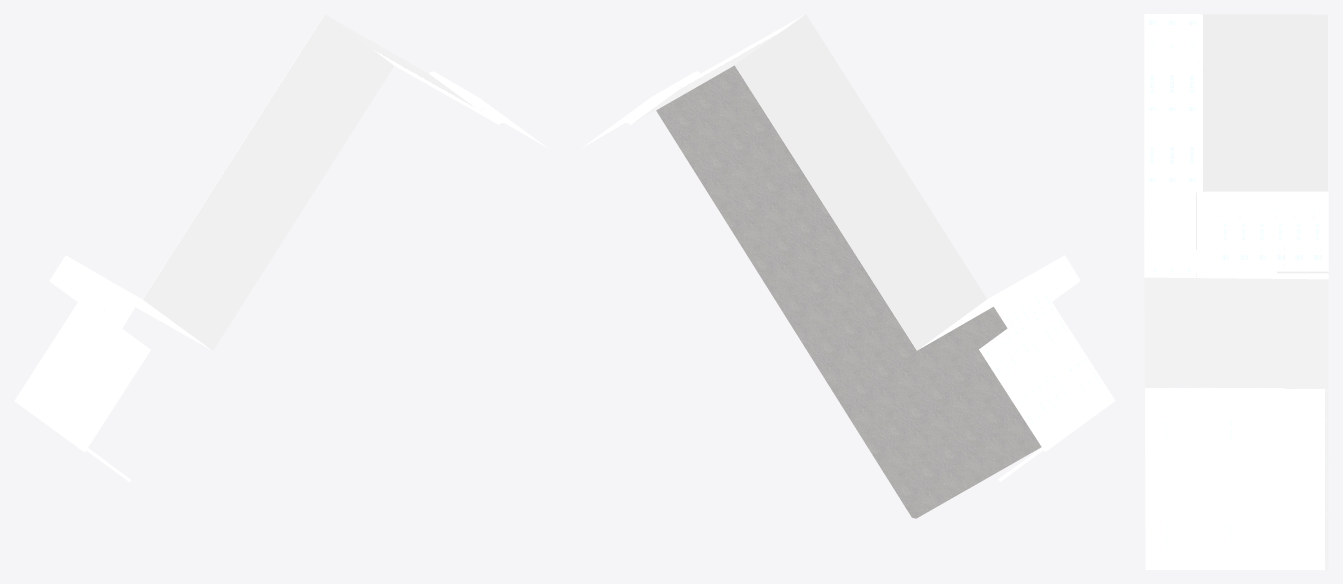
3 renders of one model, left to right at view 1: azimuth 30°, elevation 25°; view 2: azimuth 150°, elevation 25°; view 3: azimuth 270°, elevation 25°, orthographic. The views are drawn at different scales.
Visible parts, largest first — view 1: BuildingMaster_1980193706994462679300000000_0; view 2: BuildingMaster_1980193706994462679300000000_1, BuildingMaster_1980193706994462679300000000_0; view 3: BuildingMaster_1980193706994462679300000000_0.
Boxes of the visible parts, bbox=[...] form: BuildingMaster_1980193706994462679300000000_0: bbox=[14, 14, 548, 482]; BuildingMaster_1980193706994462679300000000_1: bbox=[656, 65, 1041, 518]; BuildingMaster_1980193706994462679300000000_0: bbox=[581, 14, 1115, 481]; BuildingMaster_1980193706994462679300000000_0: bbox=[1144, 14, 1328, 569].
Size of the model in its own units: 134 by 131 by 35.
